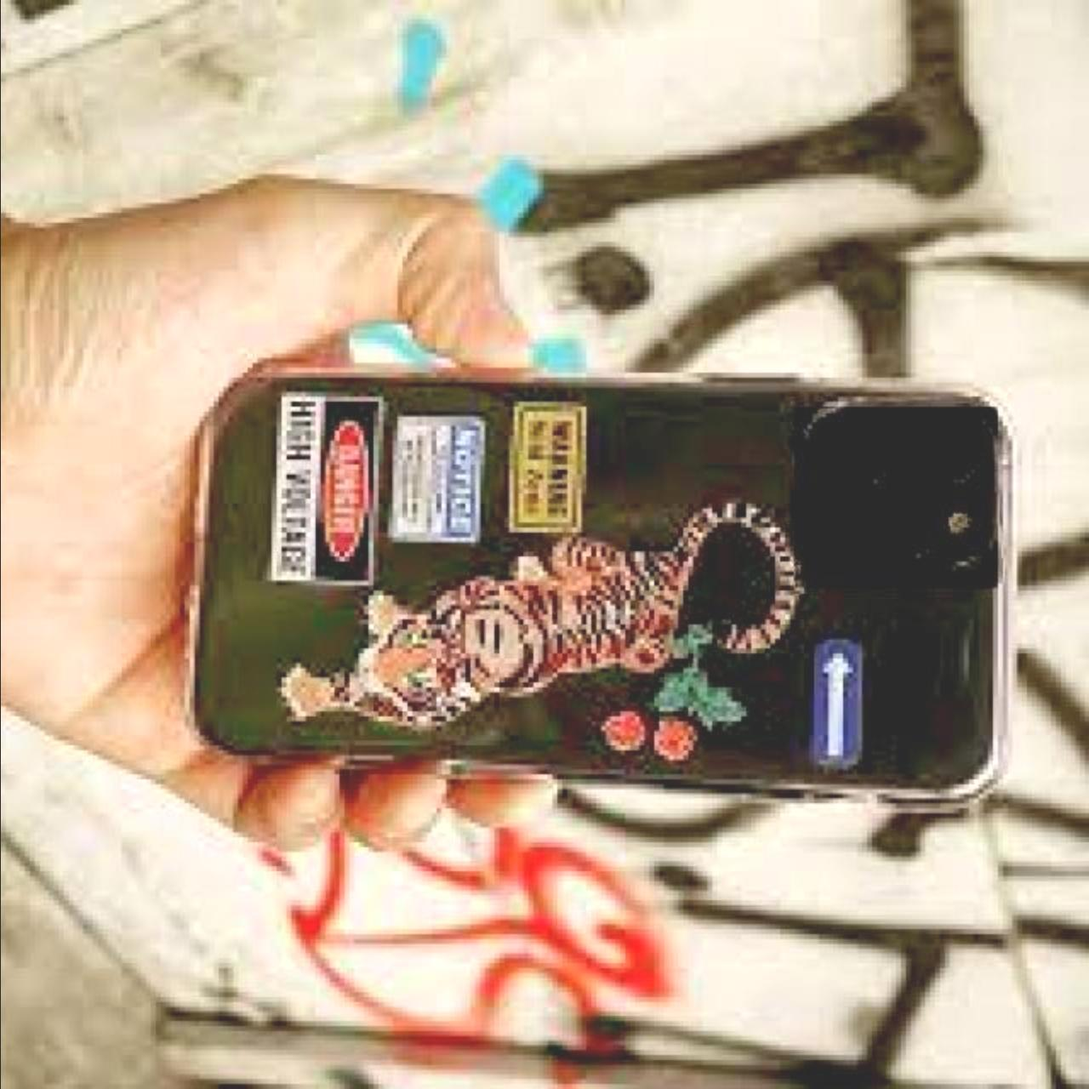phone: (187, 369, 1029, 813)
